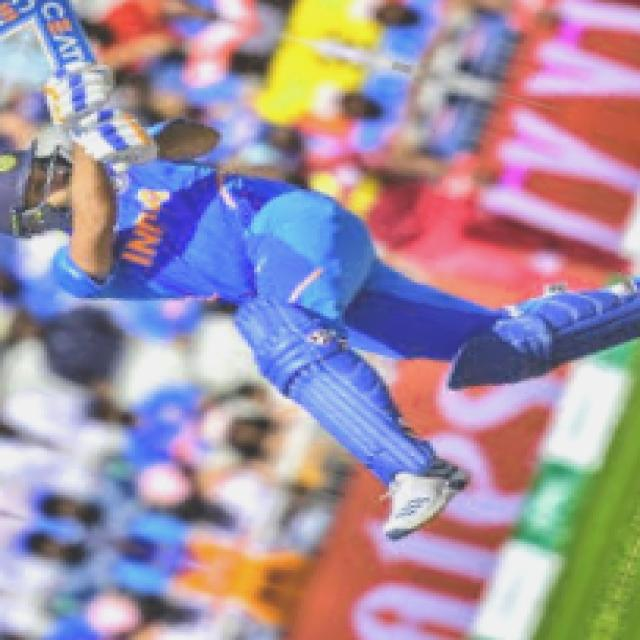toe: (33, 0, 71, 24)
